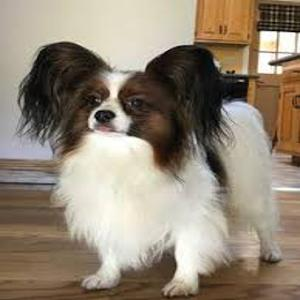yell: (21, 41, 282, 296)
